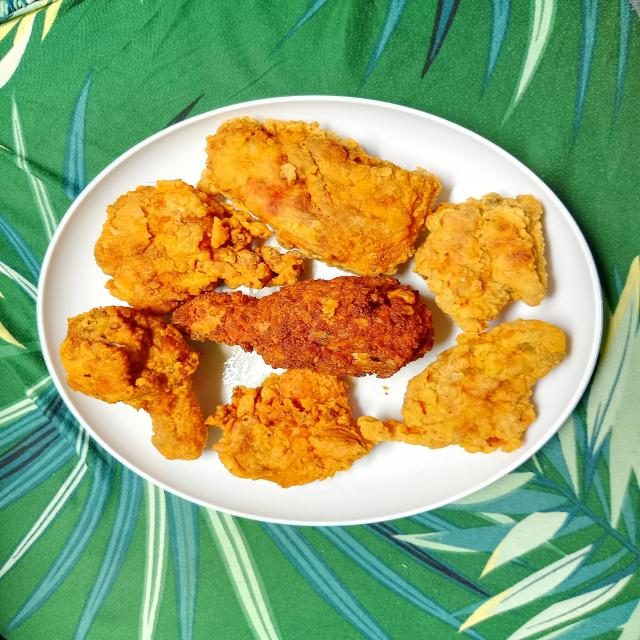Chicken -Fried Chicken-: (55, 110, 576, 498)
